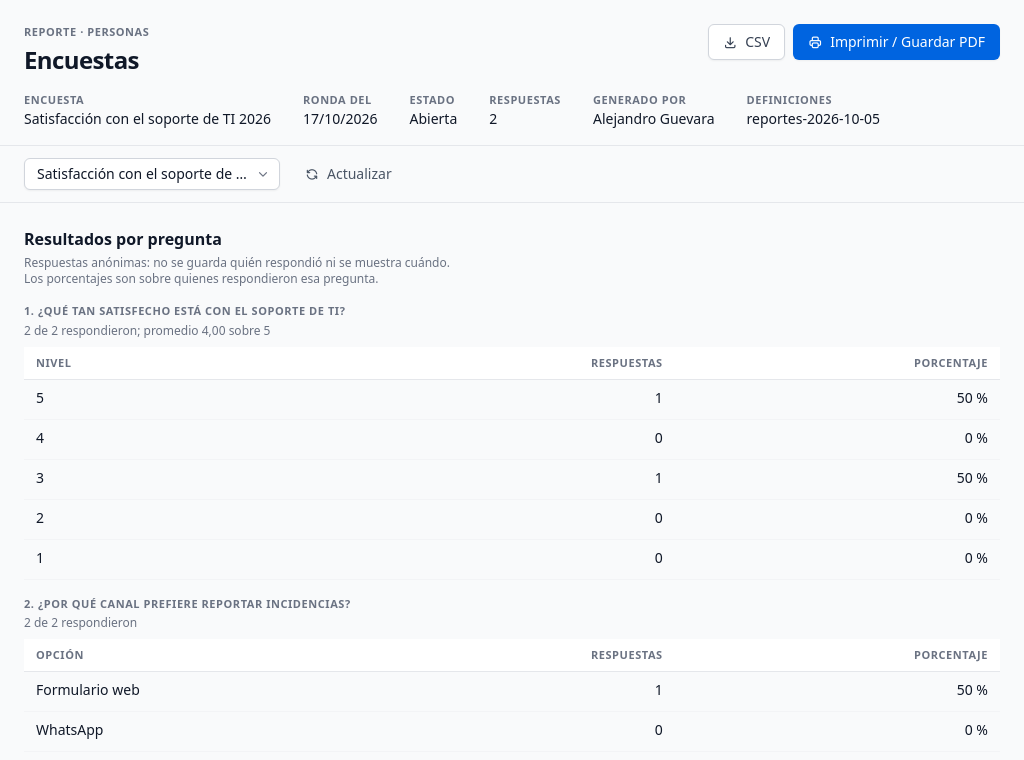
Test: ReporteGenericoView: una hoja por reporte de la 117 › encuestas: elegir otra ronda la escribe en la URL y pide esa ronda
The width and height of the screenshot is (1024, 760).
Expected: the text "Satisfacción con el soporte de TI 2026" is shown, x1=24 y1=109 x2=271 y2=128
Select "Inventario de equipos en obra · 04/10/2026 · 2 respuestas" in the dropdown at (152, 174), box x1=24 y1=158 x2=280 y2=190
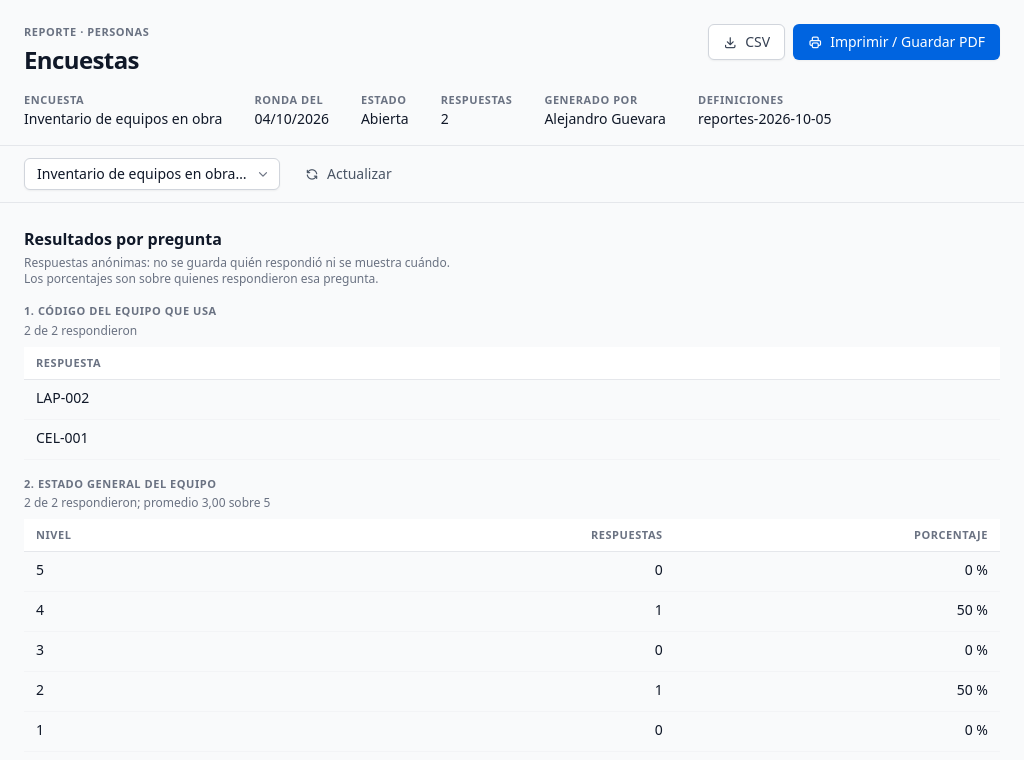
Now the text "Inventario de equipos en obra" is shown, box x1=24 y1=109 x2=222 y2=128
